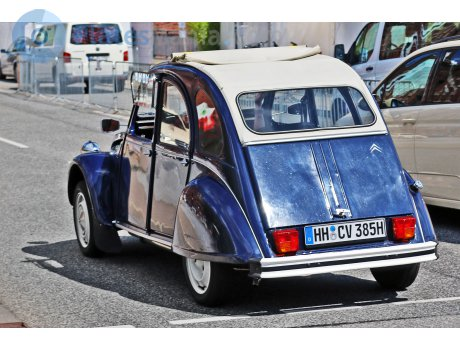License Plates: (313, 223, 390, 242)
